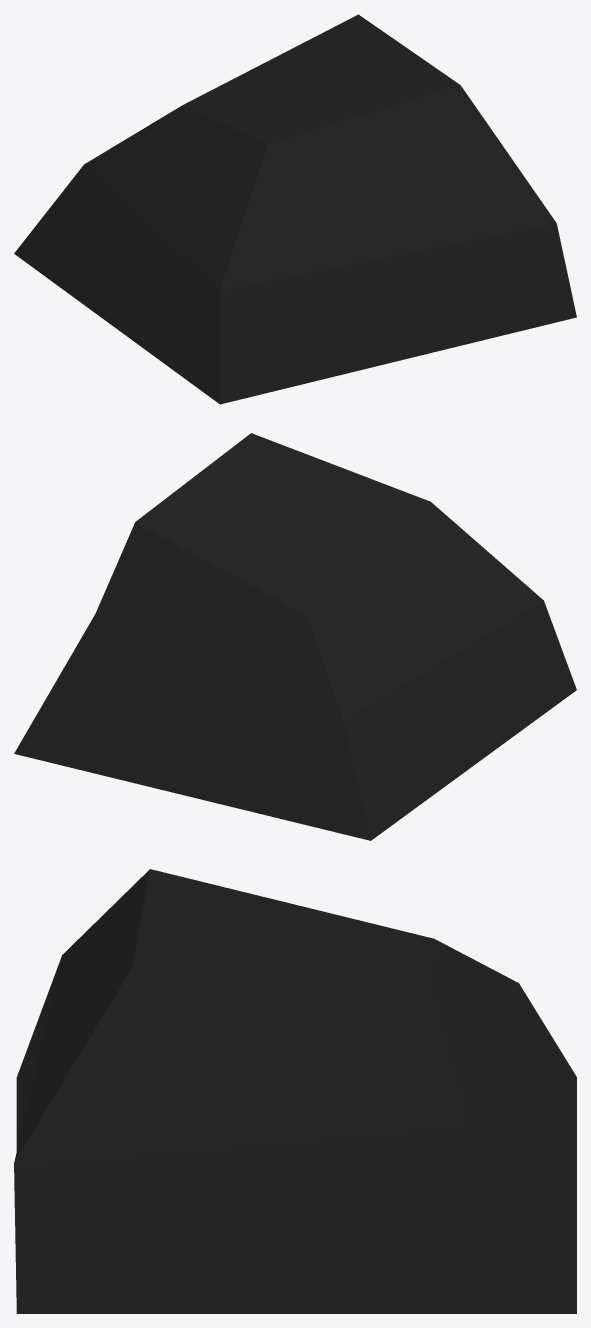
Rendered from rock.glb.
3 renders of one model, top to bottom at view 1: azimuth 30°, elevation 25°; view 2: azimuth 150°, elevation 25°; view 3: azimuth 270°, elevation 25°, orthographic. The views are drawn at different scales.
Visible parts, largest first — view 1: Cube; view 2: Cube; view 3: Cube.
Part boxes in pixels (x1,y1,x2,y2): Cube: (14, 14, 576, 404); Cube: (14, 433, 576, 840); Cube: (14, 869, 576, 1313).
Size of the model in its own units: 3.41 by 2 by 3.43.
1 material, 1 textured.
